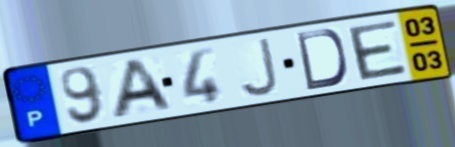4: (179, 46, 226, 106)
9: (59, 66, 108, 126)
A: (109, 56, 178, 121)
D: (294, 27, 350, 92)
E: (344, 18, 411, 83)
J: (236, 36, 281, 99)
